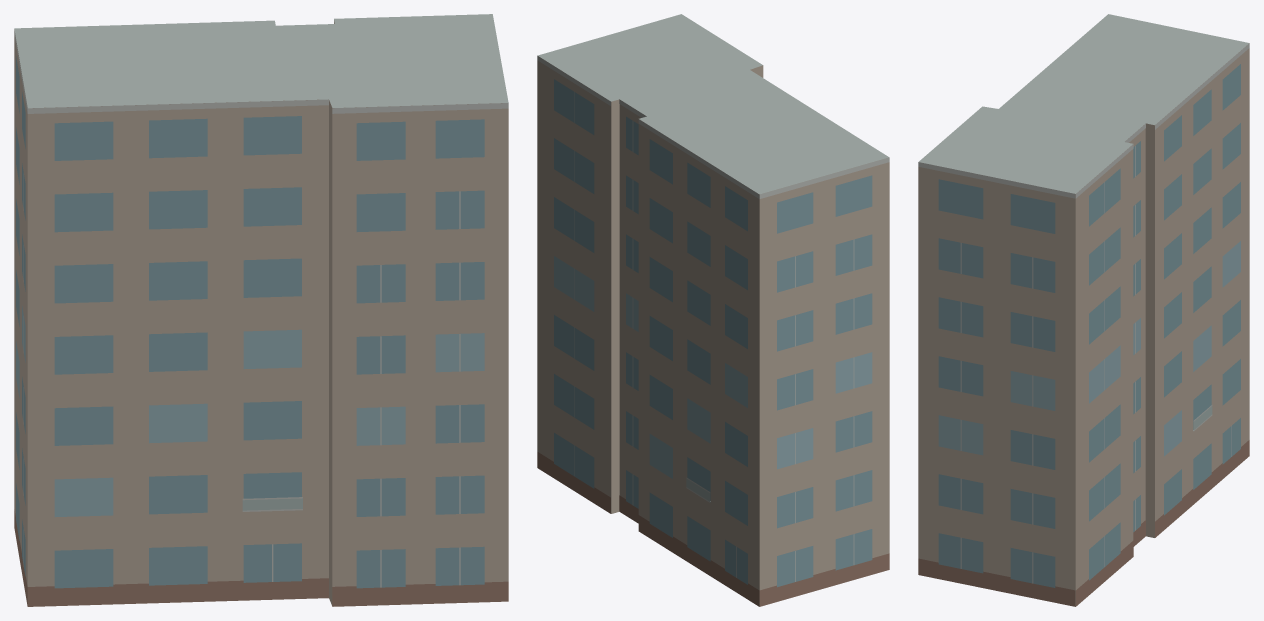
Rendered from survey-upis-32630382.glb.
The picture shows the model from 3 angles, left to right: view 1: azimuth 30°, elevation 25°; view 2: azimuth 150°, elevation 25°; view 3: azimuth 270°, elevation 25°; orthographic projection. The views are drawn at different scales.
Visible parts, largest first — view 1: survey-upis-32630382.tmp; view 2: survey-upis-32630382.tmp; view 3: survey-upis-32630382.tmp.
Boxes of the visible parts, <box> form: survey-upis-32630382.tmp: <box>14,14,508,606</box>; survey-upis-32630382.tmp: <box>537,14,889,606</box>; survey-upis-32630382.tmp: <box>918,14,1249,606</box>.
Bounding box in the file's own units: 19.82 × 21.2 × 15.42.
